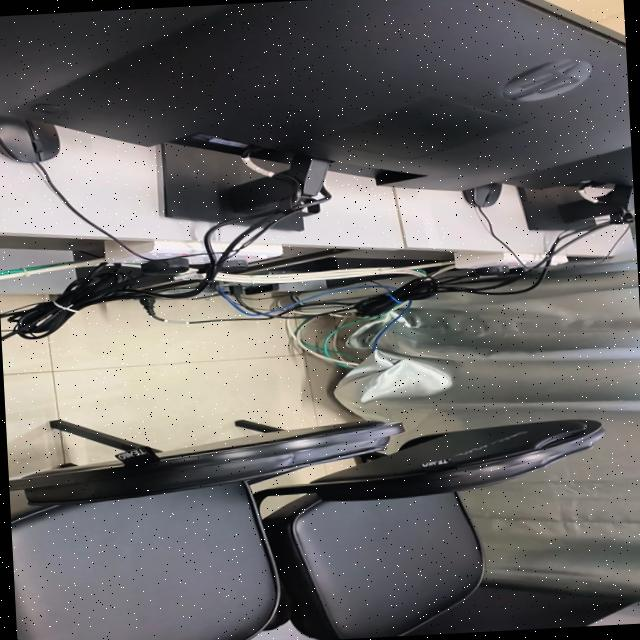Chair: (8, 422, 397, 640), (253, 420, 603, 640)
Monitor: (43, 0, 631, 222), (0, 4, 230, 115), (499, 146, 634, 230)
Mouse: (0, 116, 59, 162), (462, 183, 501, 207)
